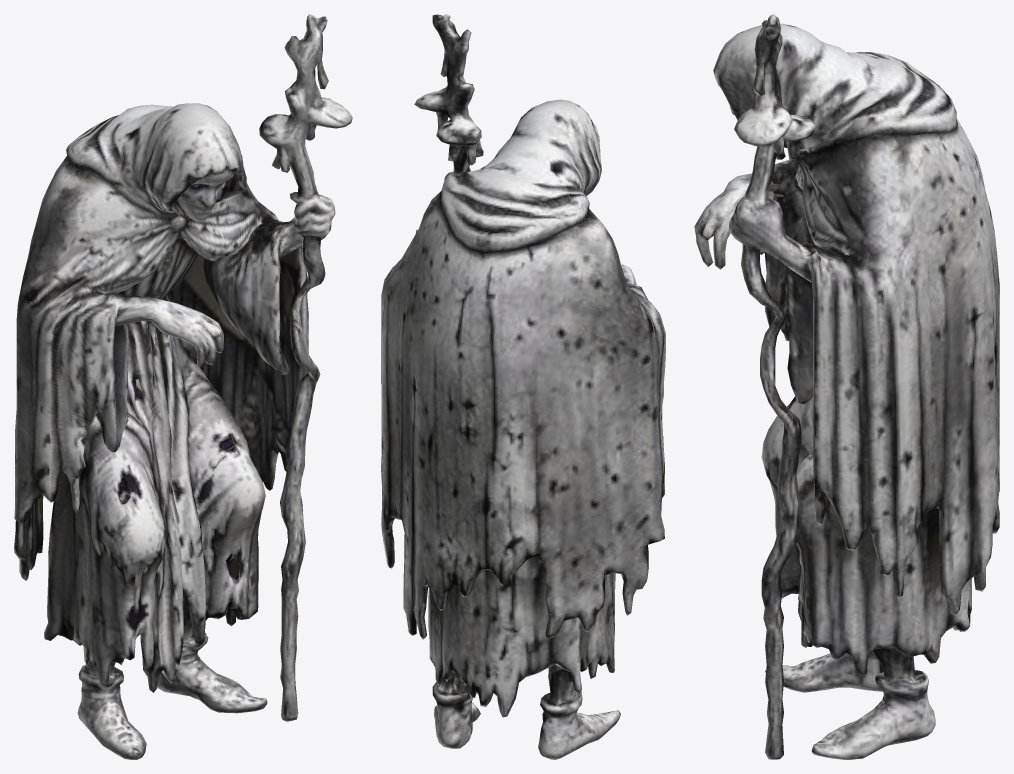
Rendered from Witch_Bogwitch.glb.
3 views of the same model, side by side, from view 1: azimuth 30°, elevation 25°; view 2: azimuth 150°, elevation 25°; view 3: azimuth 270°, elevation 25° (orthographic). The views are drawn at different scales.
Bounding box in the file's own units: 0.8336 × 1.91 × 0.6928.
Materials: 1 (1 with a texture image).
